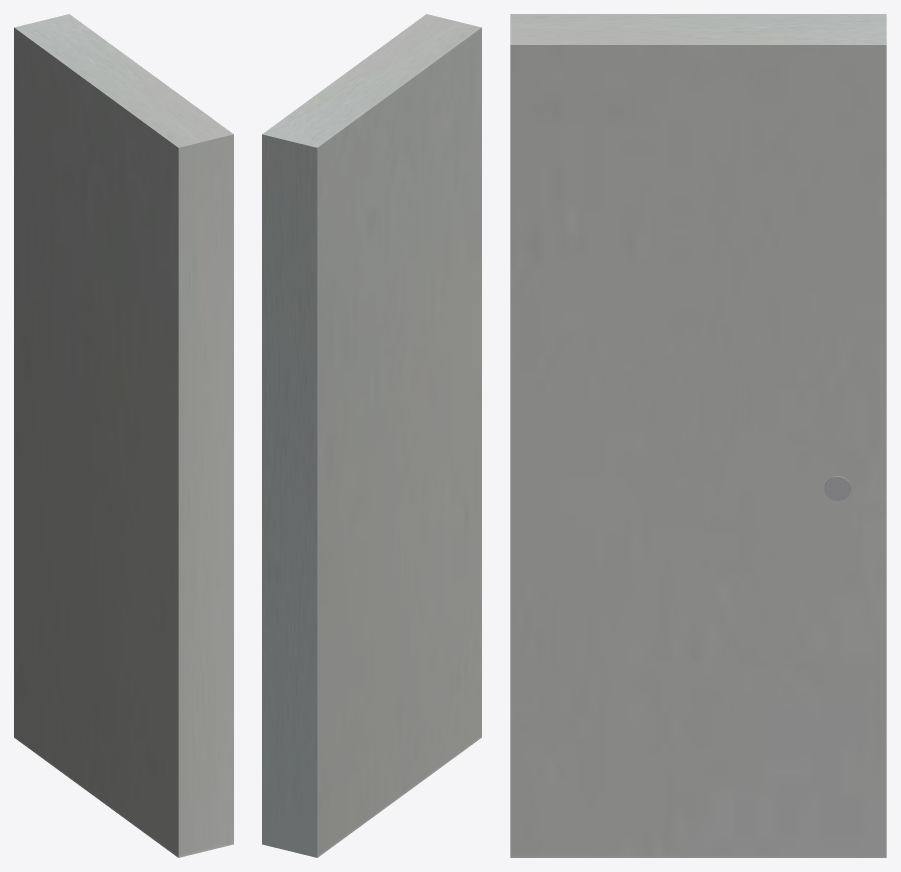
Rendered from doorLeft.obj.
The picture shows the model from 3 angles, left to right: view 1: azimuth 30°, elevation 25°; view 2: azimuth 150°, elevation 25°; view 3: azimuth 270°, elevation 25°; orthographic projection. The views are drawn at different scales.
Visible parts, largest first — view 1: pasted__pasted__pasted__pasted__pCube8 pasted__pasted__pasted__g; view 2: pasted__pasted__pasted__pasted__pCube8 pasted__pasted__pasted__g; view 3: pasted__pasted__pasted__pasted__pCube8 pasted__pasted__pasted__g.
Boxes of the visible parts, x1,y1,x2,y2 form: pasted__pasted__pasted__pasted__pCube8 pasted__pasted__pasted__g: (14, 14, 233, 857); pasted__pasted__pasted__pasted__pCube8 pasted__pasted__pasted__g: (262, 14, 481, 857); pasted__pasted__pasted__pasted__pCube8 pasted__pasted__pasted__g: (510, 14, 886, 857).
Bounding box in the file's own units: 0.3378 × 3.67 × 1.54.
Materials: 2 (2 with a texture image).
